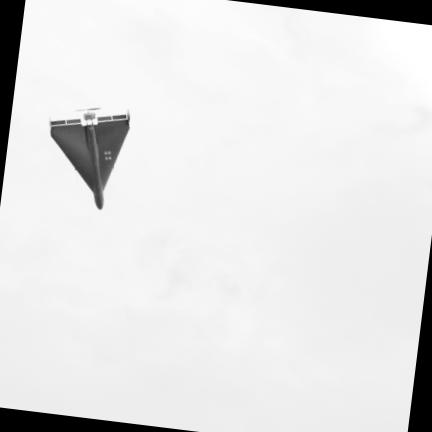Shahed: (51, 108, 128, 208)
